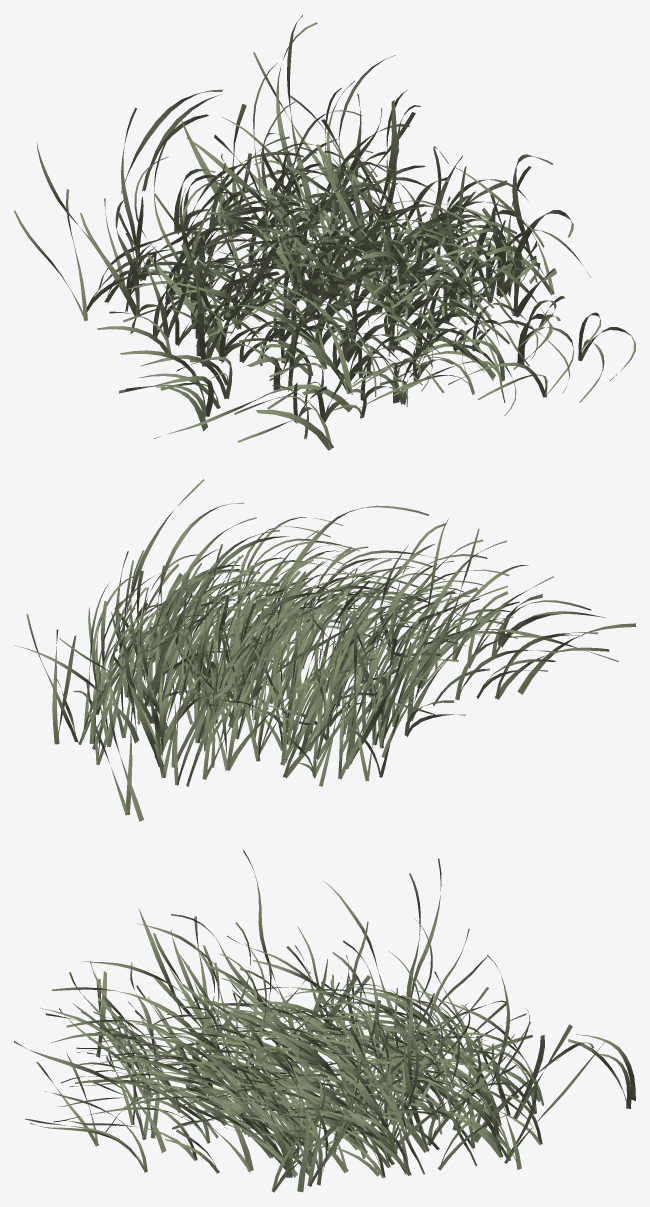
File: GRASS_VARIANT4.fbx
3 views of the same model, one above another, from view 1: azimuth 30°, elevation 25°; view 2: azimuth 150°, elevation 25°; view 3: azimuth 270°, elevation 25° (orthographic). The views are drawn at different scales.
Parts seen in each view (by area): view 1: grassWindWide3Main; view 2: grassWindWide3Main; view 3: grassWindWide3Main.
Boxes of the visible parts, <box> form: grassWindWide3Main: <box>14,15,635,450</box>; grassWindWide3Main: <box>14,479,635,821</box>; grassWindWide3Main: <box>14,850,635,1192</box>.
Bounding box in the file's own units: 3.06 × 1.26 × 3.79.
